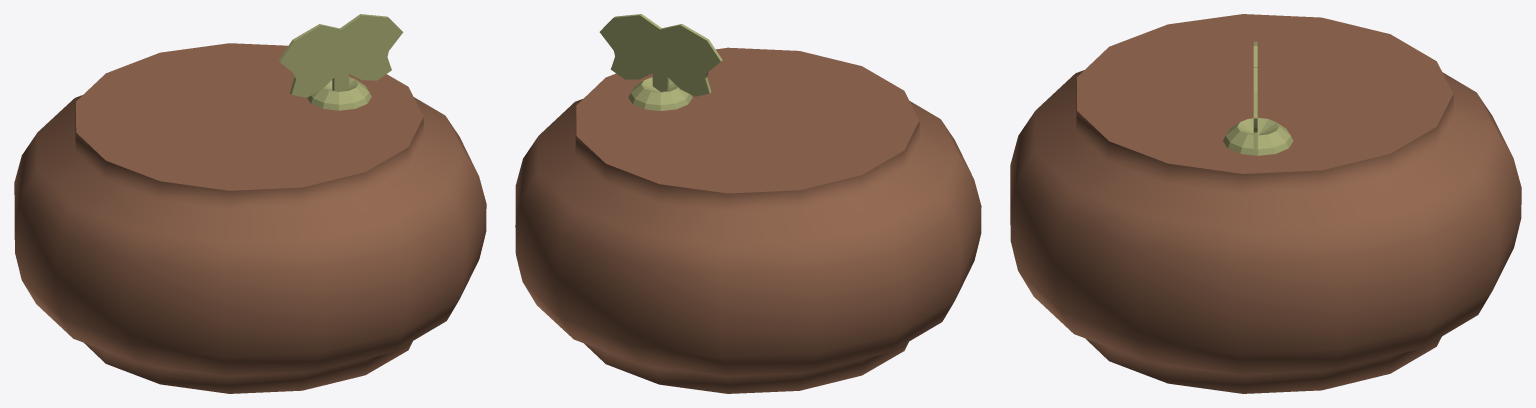
The model's file is Music_Box_1.fbx.
3 renders of one model, left to right at view 1: azimuth 30°, elevation 25°; view 2: azimuth 150°, elevation 25°; view 3: azimuth 270°, elevation 25°, orthographic. The views are drawn at different scales.
Visible parts, largest first — view 1: pasted__polySurface3, polySurface1, pSphere1; view 2: pasted__polySurface3, polySurface1, pSphere1; view 3: pasted__polySurface3, pSphere1, polySurface1.
Part boxes in pixels (x1=…): pasted__polySurface3: x1=14, y1=43, x2=486, y2=393; polySurface1: x1=278, y1=14, x2=403, y2=97; pSphere1: x1=307, y1=77, x2=371, y2=110; pasted__polySurface3: x1=515, y1=47, x2=981, y2=393; polySurface1: x1=599, y1=14, x2=722, y2=96; pSphere1: x1=628, y1=77, x2=692, y2=110; pasted__polySurface3: x1=1010, y1=14, x2=1521, y2=393; pSphere1: x1=1223, y1=118, x2=1293, y2=155; polySurface1: x1=1253, y1=41, x2=1257, y2=150.
Bounding box in the file's own units: 5.14 × 3.36 × 5.12.
